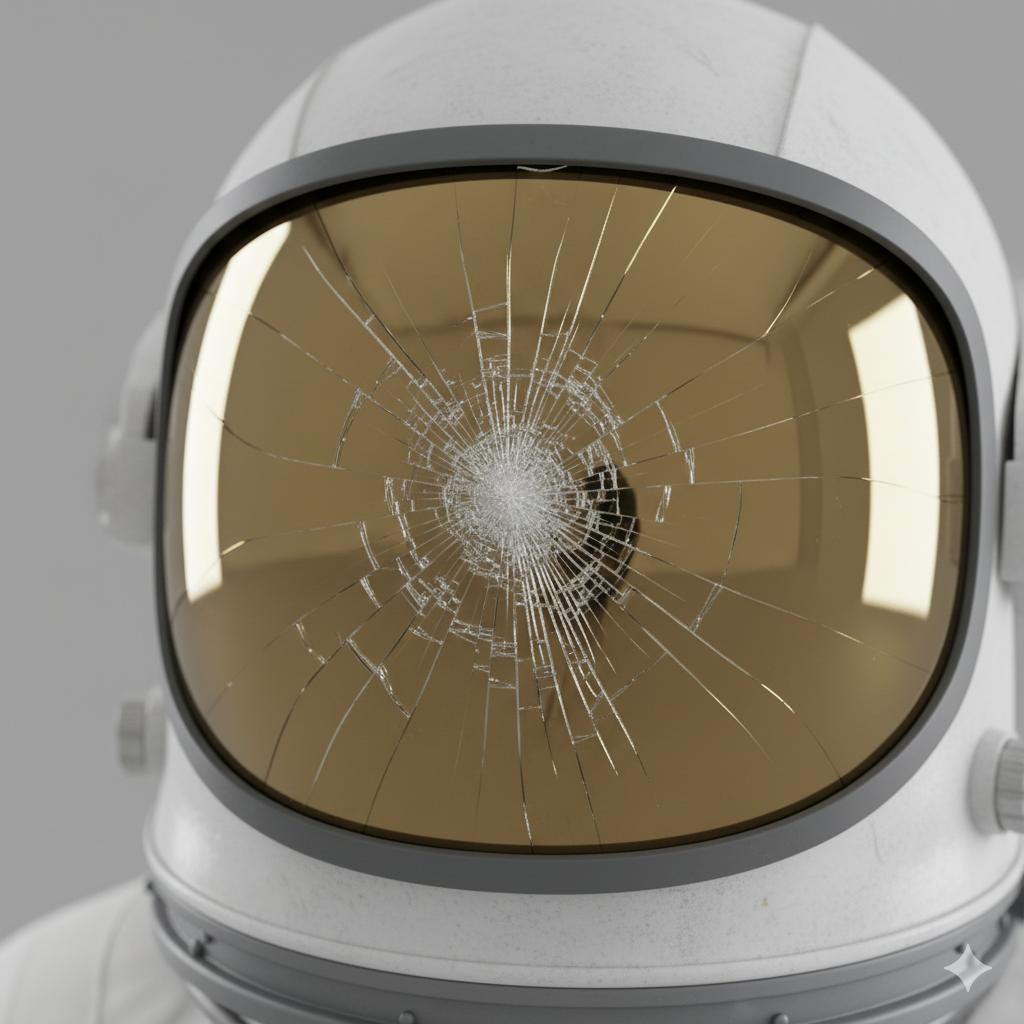crack: (283, 258, 828, 834)
